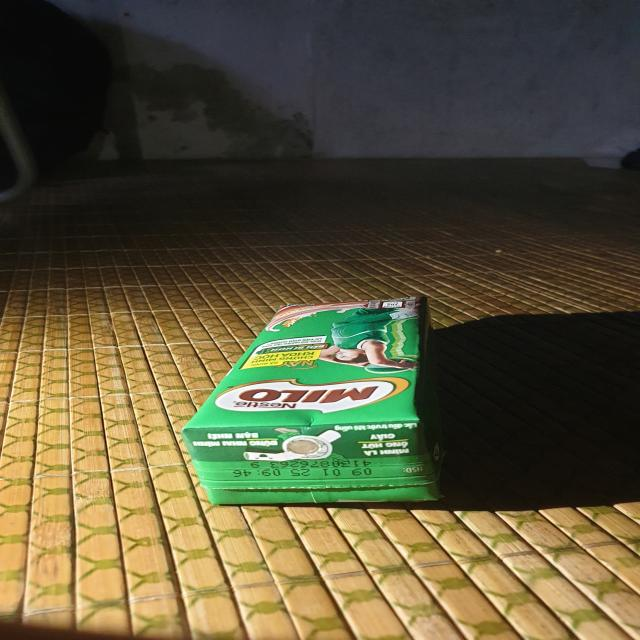Milo: (169, 297, 454, 511)
